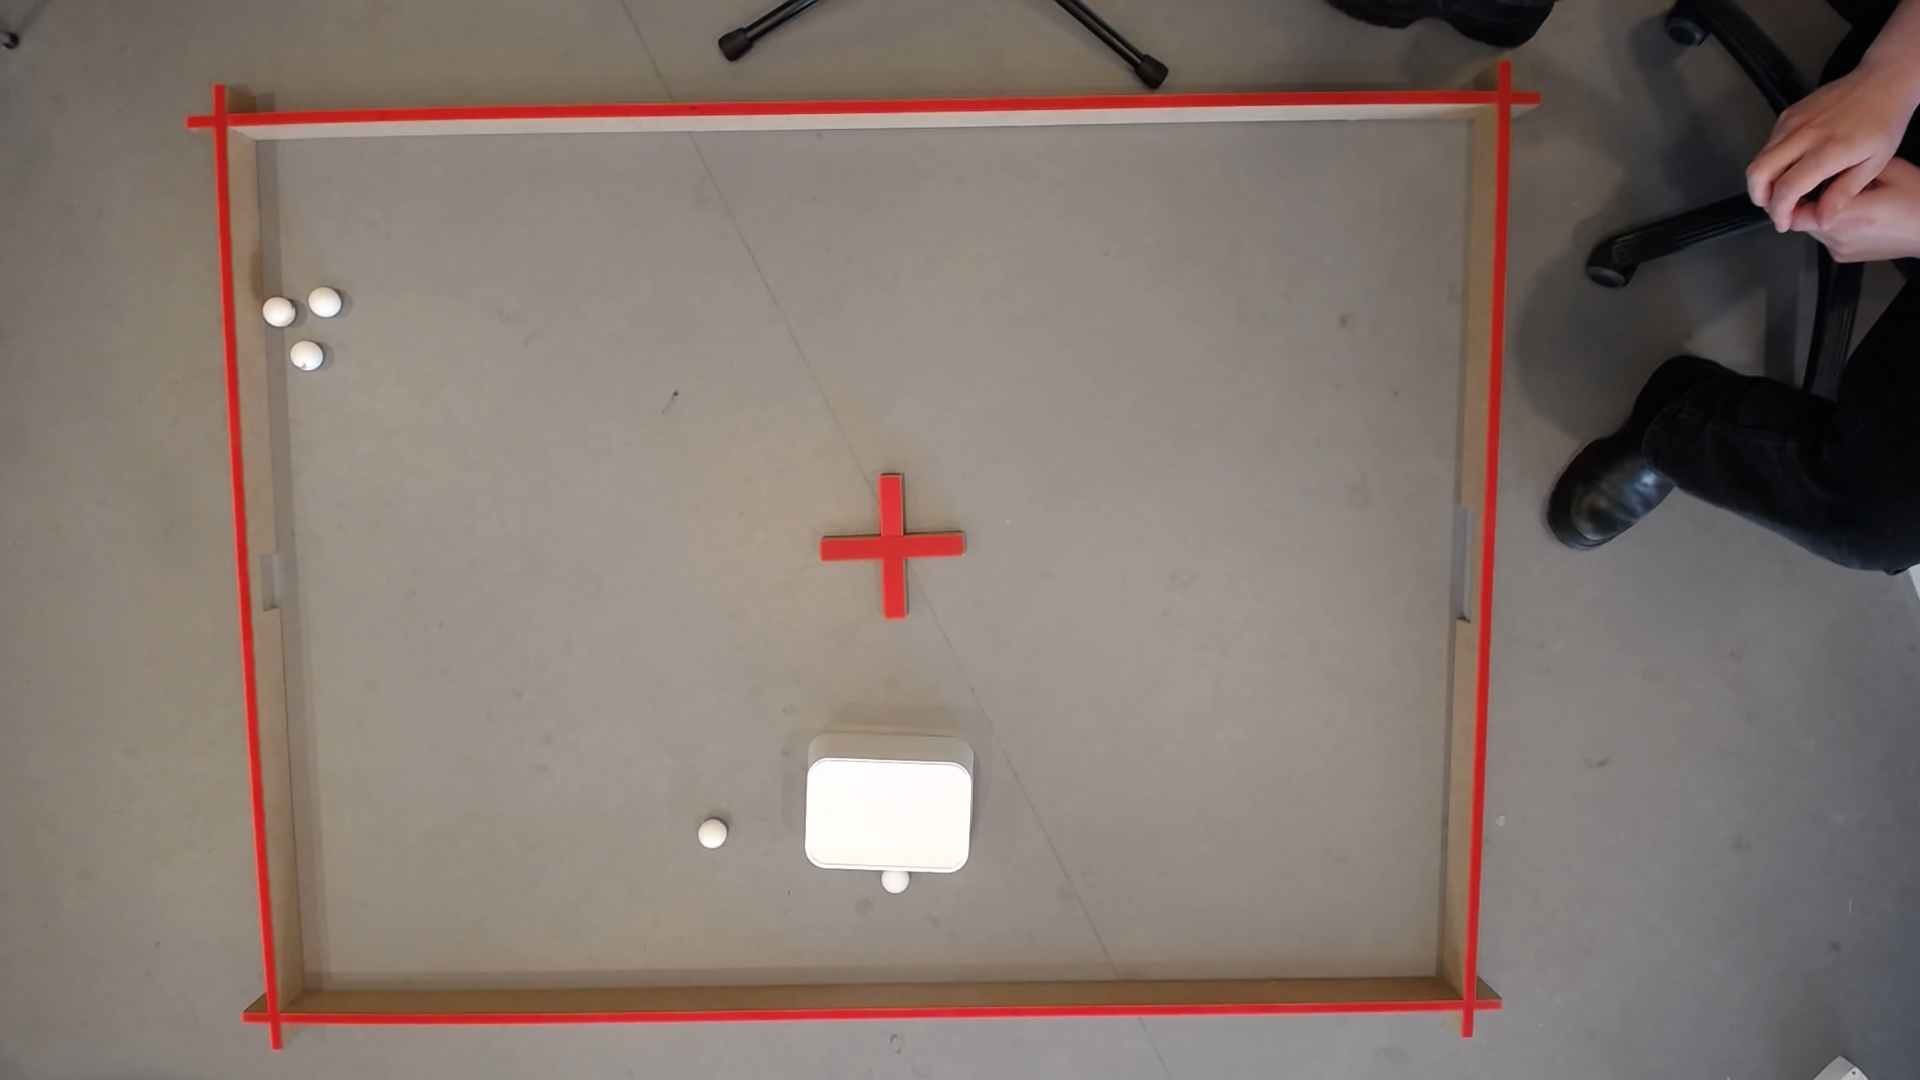balls: (305, 285, 343, 323), (287, 342, 324, 373), (260, 298, 293, 328)
car: (695, 823, 727, 852)
